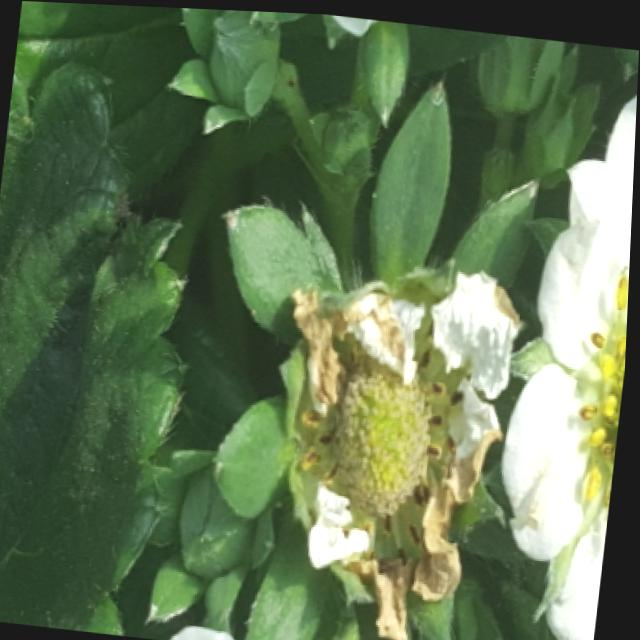Blossom Blight: (300, 314, 473, 570), (573, 261, 632, 531)
